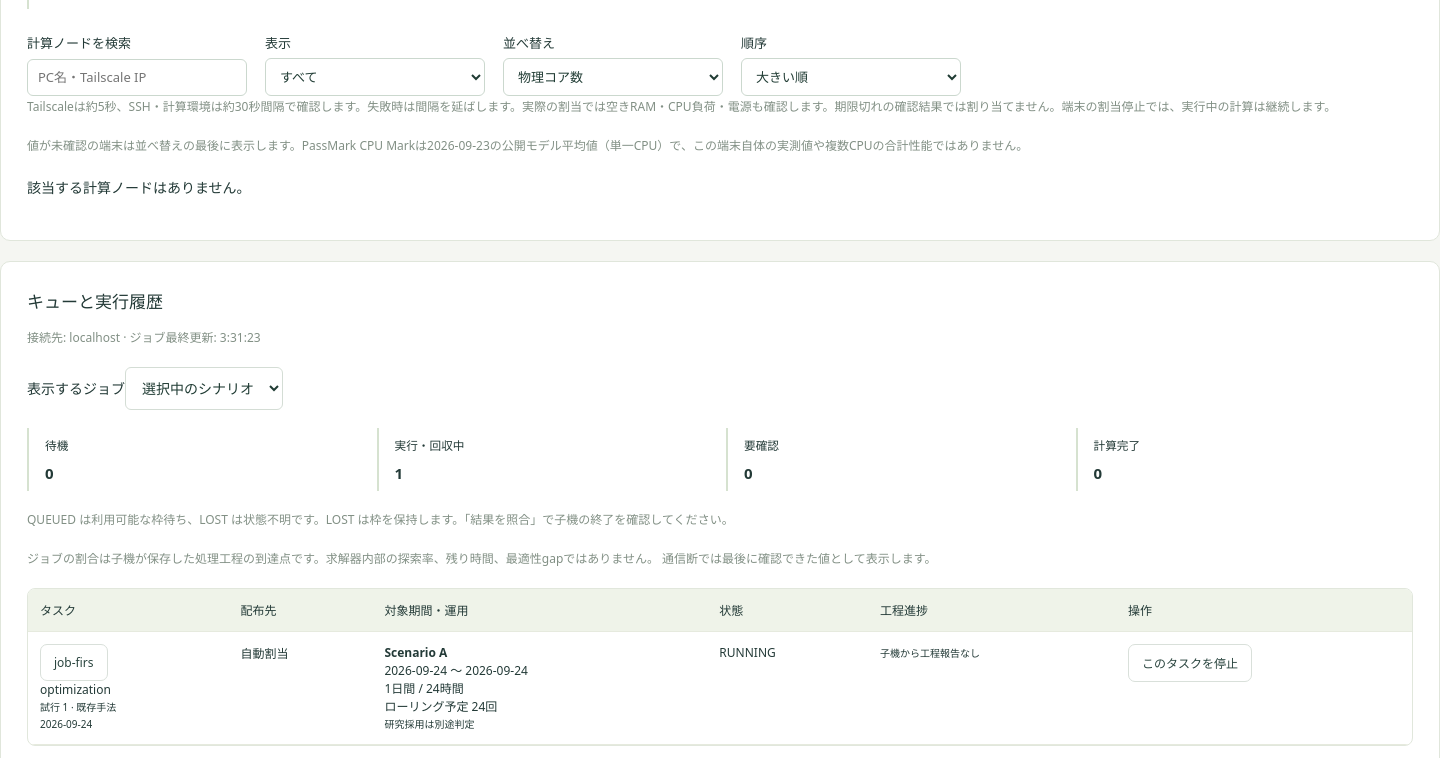
Test: shows the selected scenario's live jobs and can switch to all jobs
(page scrolled)
Expected: the text "Scenario A" is shown, [384,644,447,661]
Expected: the text "Scenario B" is not shown
Select "全シナリオ・診断" in the dropdown labelled "表示するジョブ" at coordinates (204, 388), box [125,367,283,410]
(page scrolled)
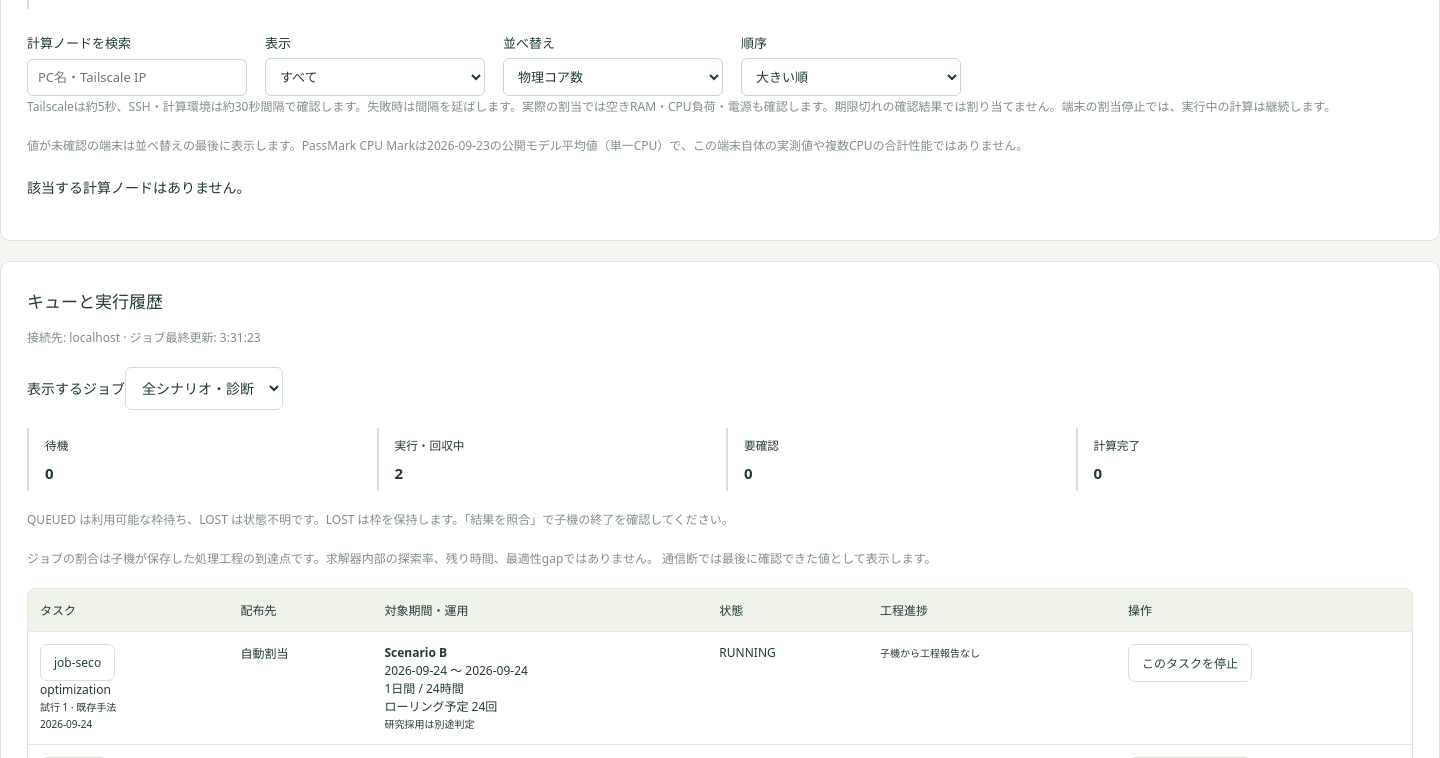
Expected: the text "Scenario B" is shown, [384,644,447,661]
Select "選択中のシナリオ" in the dropdown labelled "表示するジョブ" at coordinates (204, 388), box [125,367,283,410]
(page scrolled)
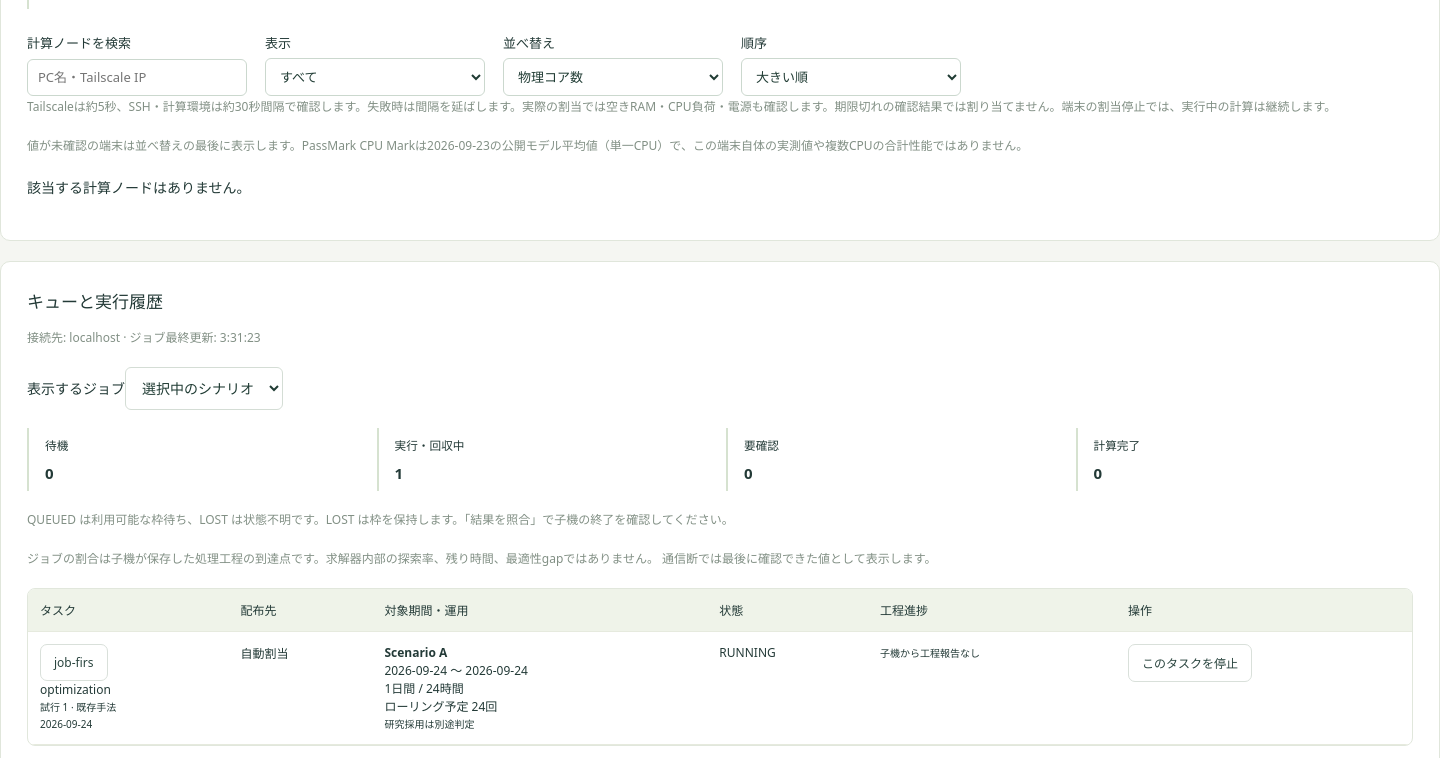
Expected: the text "Scenario B" is gone
